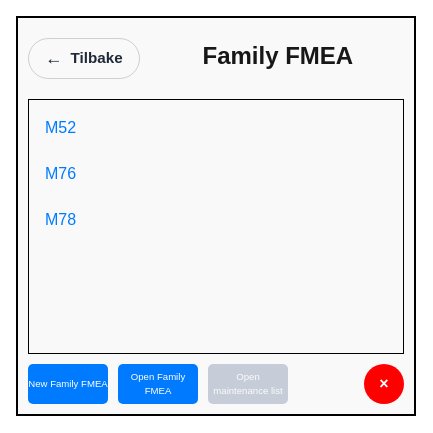
Scenario: FamilyFmeaHandler › rejects empty new family names
Click the button "New Family FMEA": {"x": 68, "y": 384} [28,364,108,404]
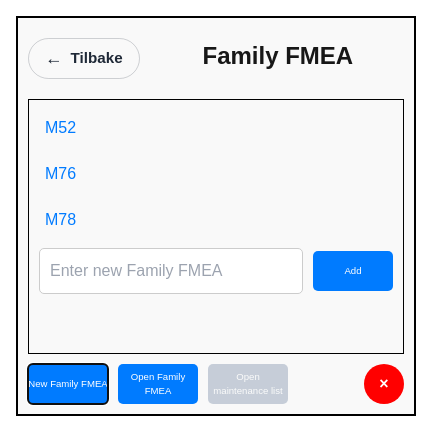
Click the button "Add": {"x": 353, "y": 271} [313,251,393,291]
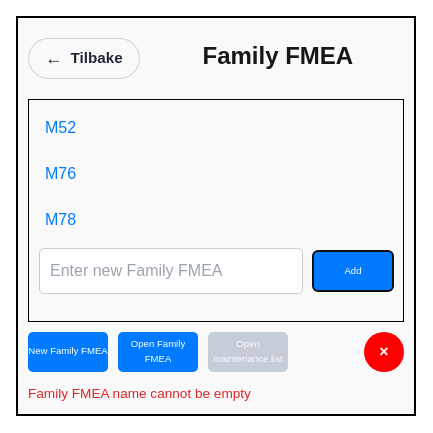
Result: the text "Family FMEA name cannot be empty" is shown at [28,384,251,404]
